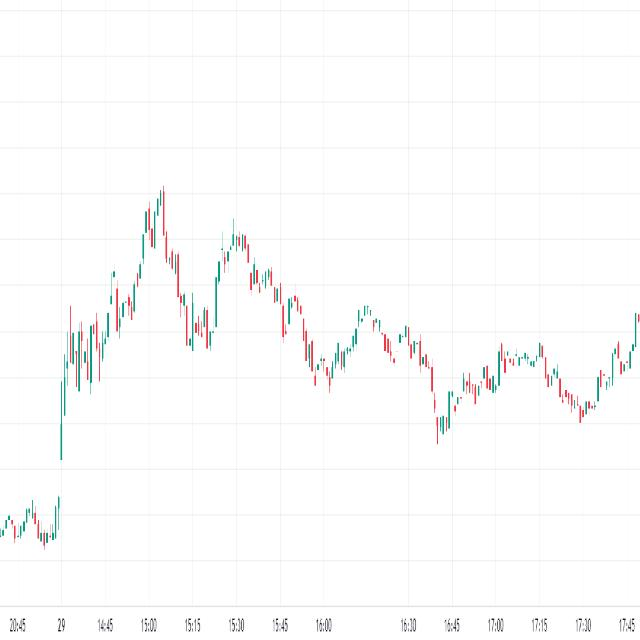Head-Shoulders: (134, 173, 184, 341)
